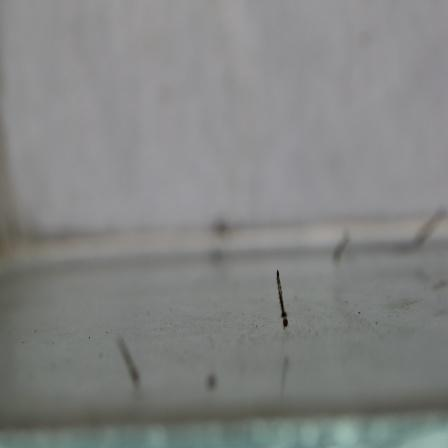Jentik-Nyamuk: (272, 266, 292, 333)
